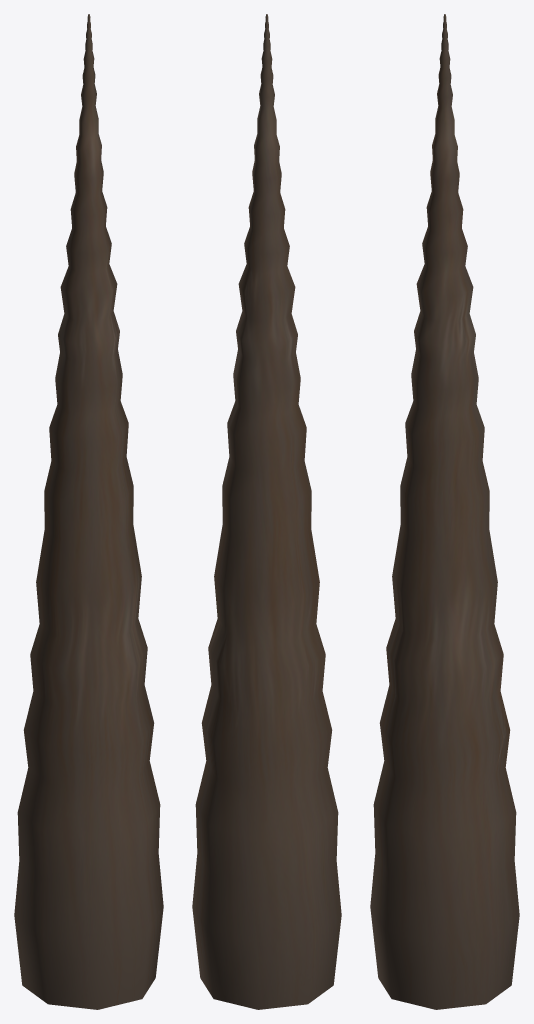
The model's file is burke_stalagtite.fbx.
The picture shows the model from 3 angles, left to right: view 1: azimuth 30°, elevation 25°; view 2: azimuth 150°, elevation 25°; view 3: azimuth 330°, elevation 25°; orthographic projection.
Visible parts, largest first — view 1: stalagtite_mb; view 2: stalagtite_mb; view 3: stalagtite_mb.
Boxes of the visible parts, x1=… form: stalagtite_mb: x1=14, y1=14, x2=163, y2=1009; stalagtite_mb: x1=192, y1=14, x2=341, y2=1009; stalagtite_mb: x1=370, y1=14, x2=519, y2=1009.
Size of the model in its own units: 0.8139 by 6.24 by 0.8139.
